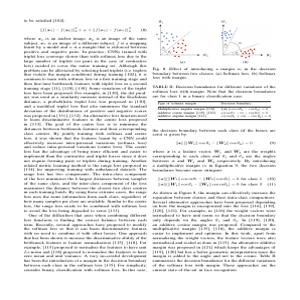diagram: (155, 12, 273, 64)
table: (156, 99, 276, 125)
text: (19, 15, 149, 277), (150, 129, 279, 276), (153, 67, 276, 99)
